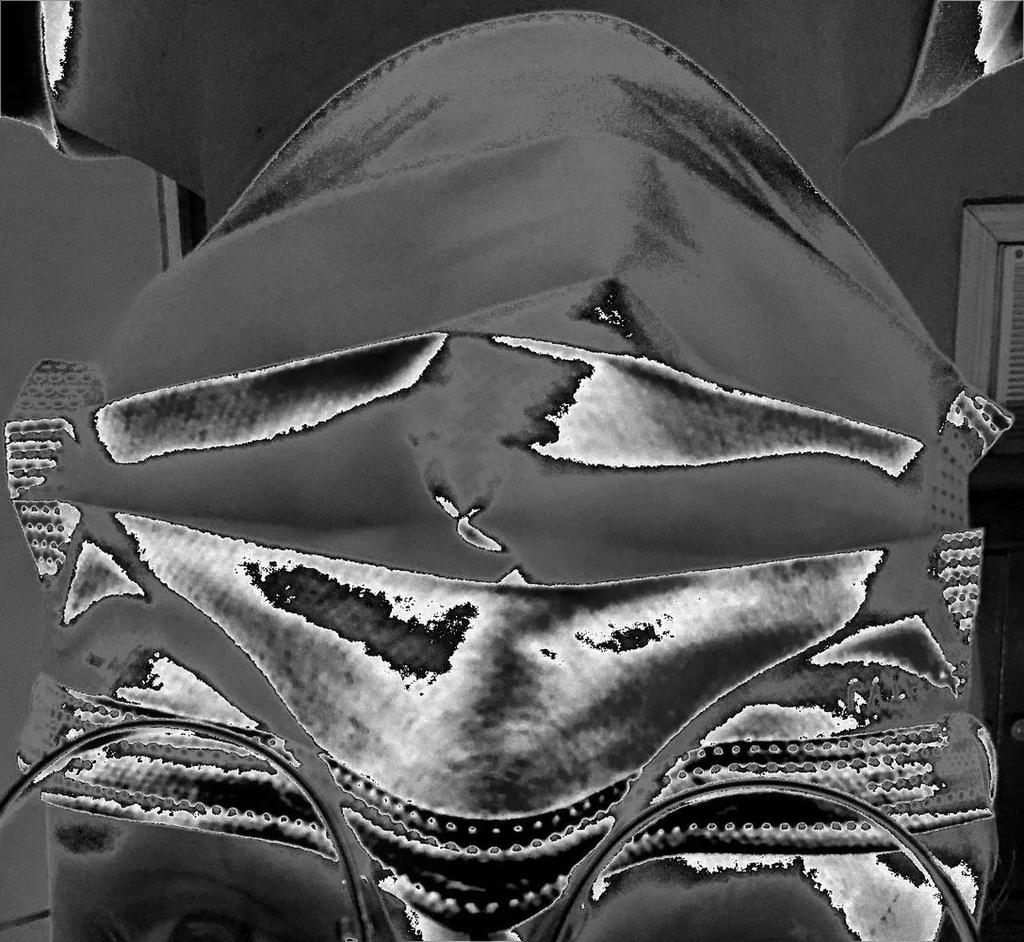Low GSM: (10, 7, 1018, 776)
